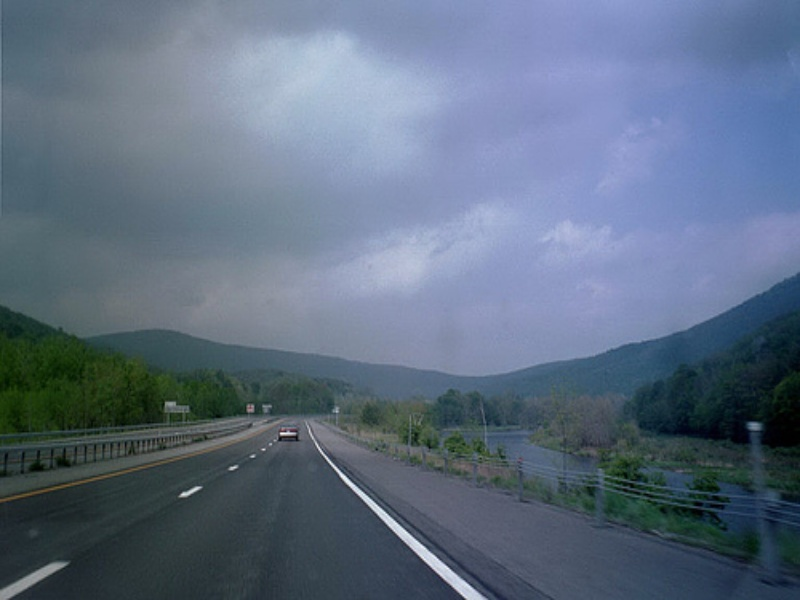car: (278, 425, 299, 443)
